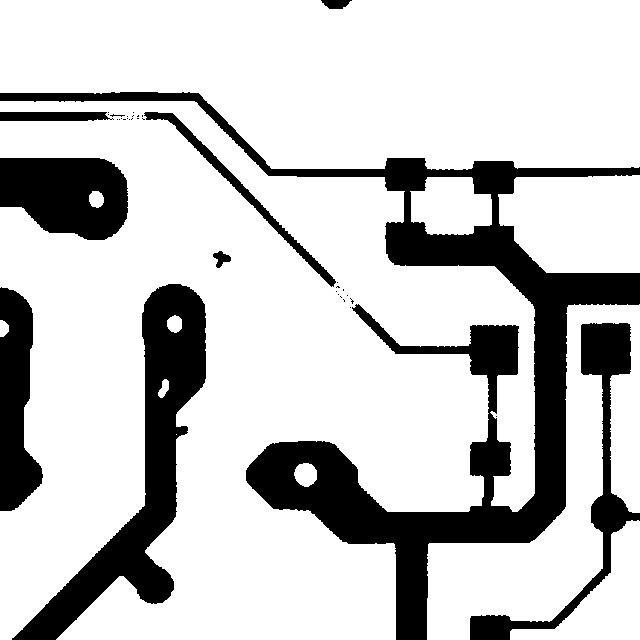copper: (203, 241, 240, 277)
mousebite: (480, 401, 510, 428)
open: (321, 272, 368, 317), (95, 100, 156, 128)
pin-hole: (148, 369, 178, 407)
short: (472, 462, 503, 518), (481, 179, 509, 238), (394, 180, 420, 233)
spur: (161, 416, 197, 448)
